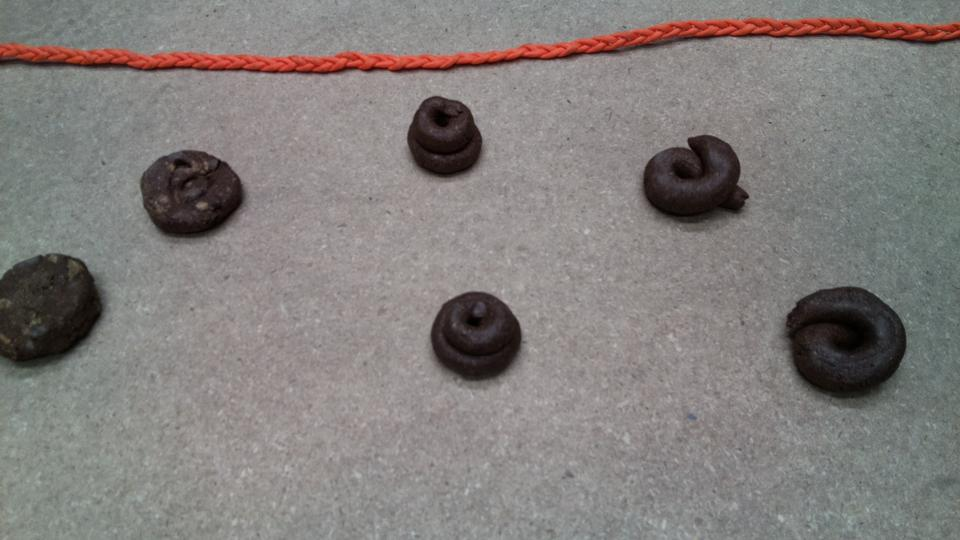poop: (783, 282, 910, 401), (1, 248, 108, 371), (641, 129, 753, 227), (137, 147, 248, 240), (427, 288, 525, 385), (404, 93, 486, 178)
rope: (1, 11, 958, 77)
